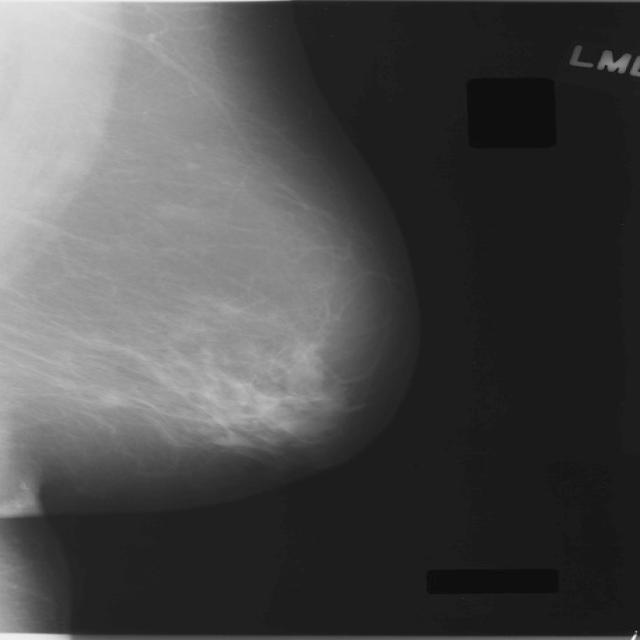tumour: (96, 390, 120, 406)
